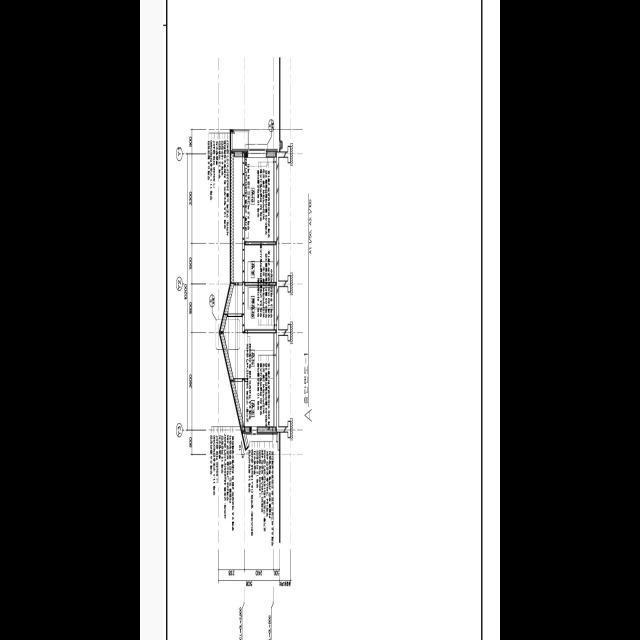background: (140, 0, 500, 640)
space_bedroom: (245, 157, 273, 241)
space_dressroom: (245, 244, 273, 281)
space_kitchen: (245, 333, 273, 426)
space_other: (223, 316, 242, 378), (234, 156, 243, 282), (228, 285, 242, 313), (234, 381, 242, 417)
space_toilet: (245, 285, 274, 329)
